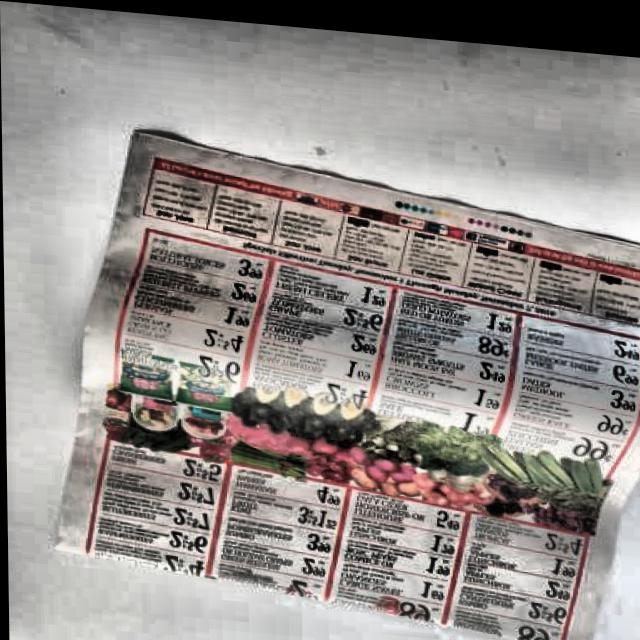paper: (54, 121, 640, 640)
